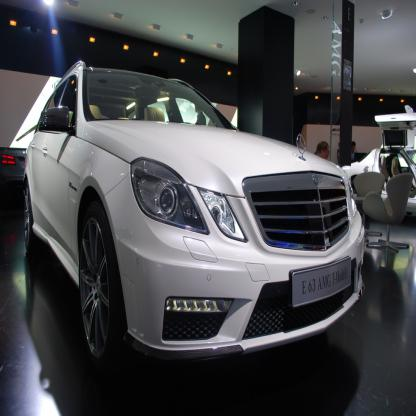Car: (23, 61, 364, 367), (341, 105, 415, 217)
